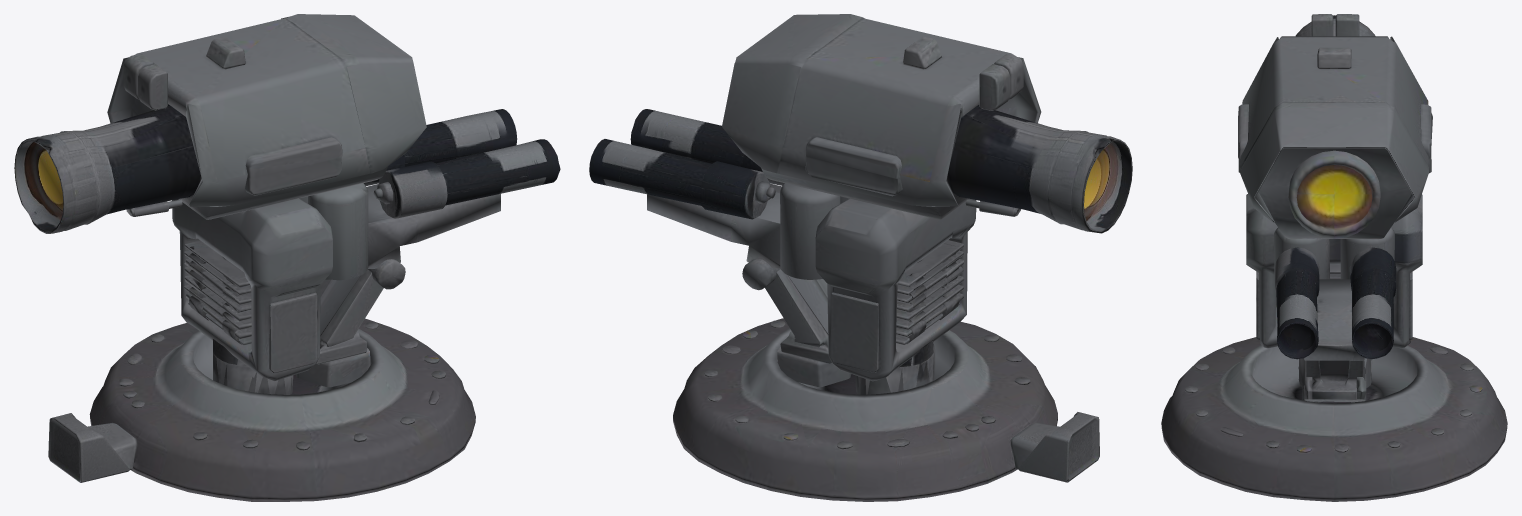
The model's file is enm_auto_turret.glb.
3 renders of one model, left to right at view 1: azimuth 30°, elevation 25°; view 2: azimuth 150°, elevation 25°; view 3: azimuth 270°, elevation 25°, orthographic. The views are drawn at different scales.
Size of the model in its own units: 0.9561 by 0.7314 by 0.6479.
Materials: 1 (1 with a texture image).
